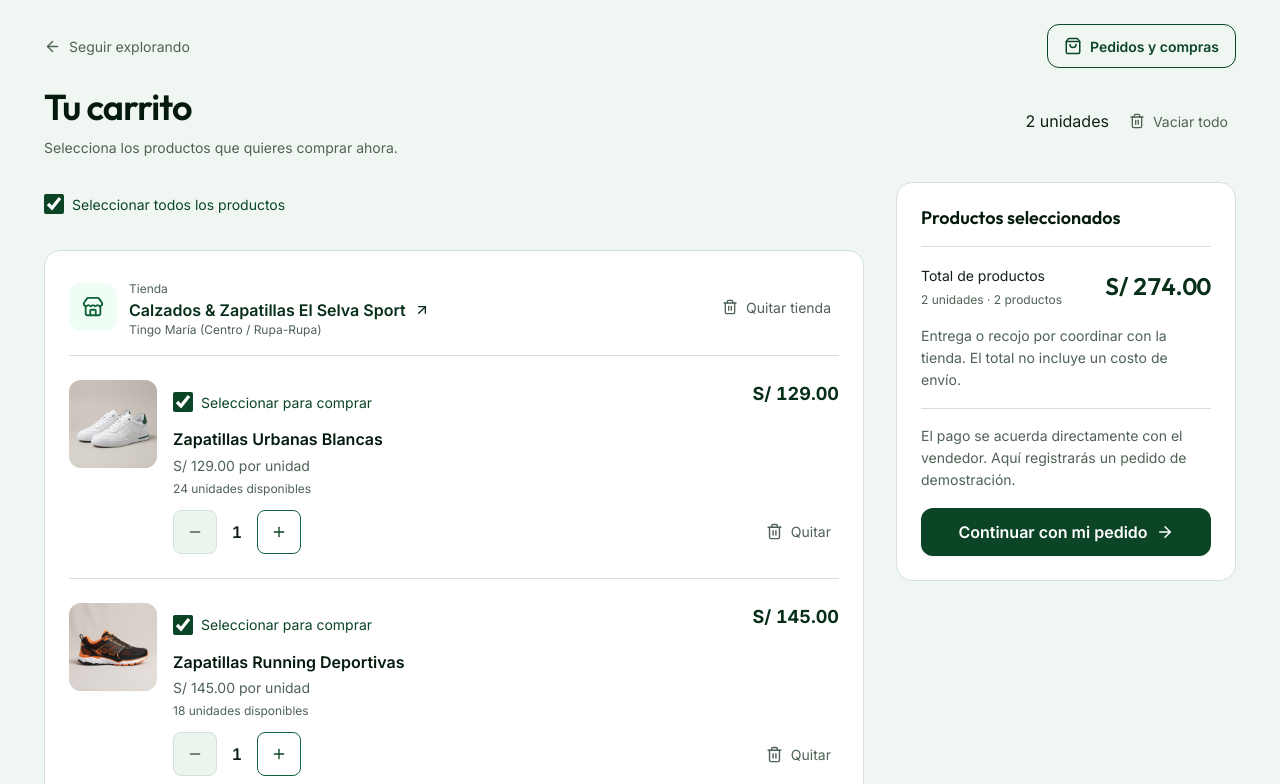
Test: Compra de productos seleccionados › compra un producto y conserva otro de la misma tienda con su stock intacto
The width and height of the screenshot is (1280, 784).
Step 1. Click the 2nd checkbox labelled "Seleccionar para comprar" → coordinates (183, 625), box x1=173 y1=615 x2=193 y2=635
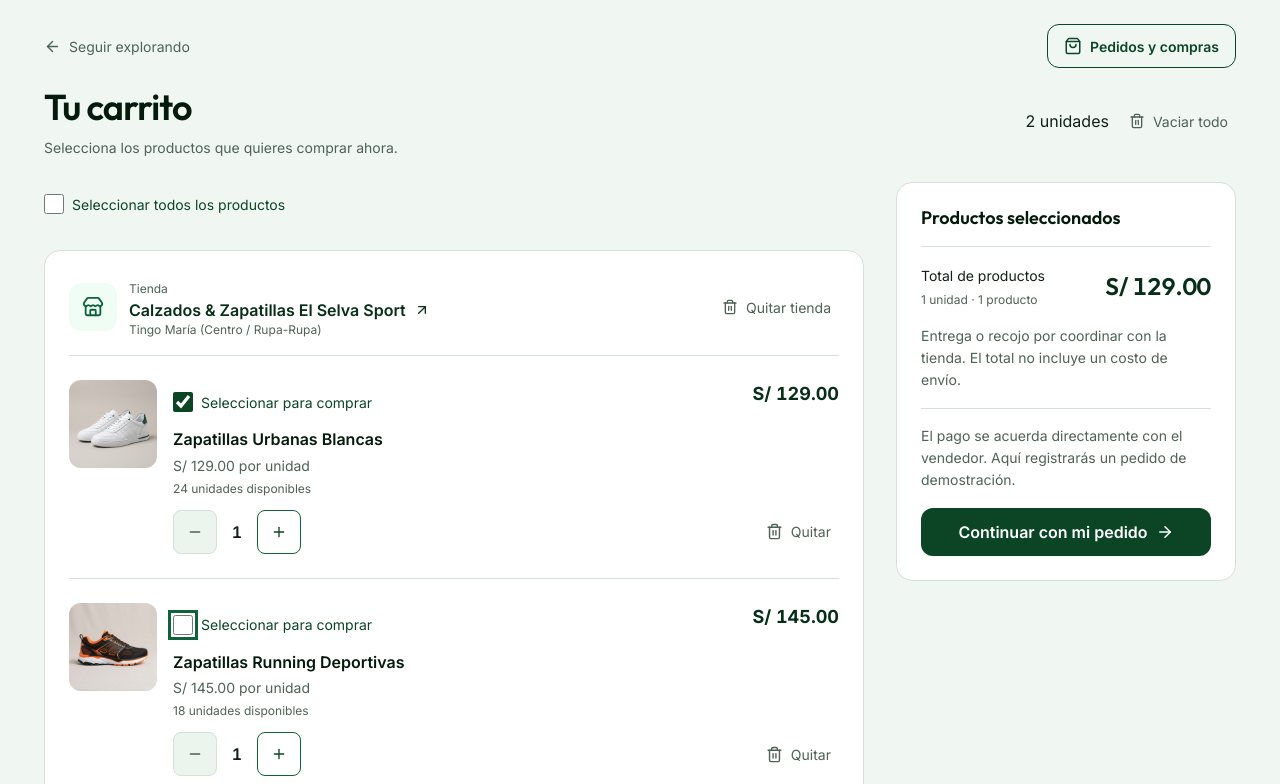
Step 2. Click the button "Continuar con mi pedido" → coordinates (1066, 532), box x1=921 y1=508 x2=1211 y2=556
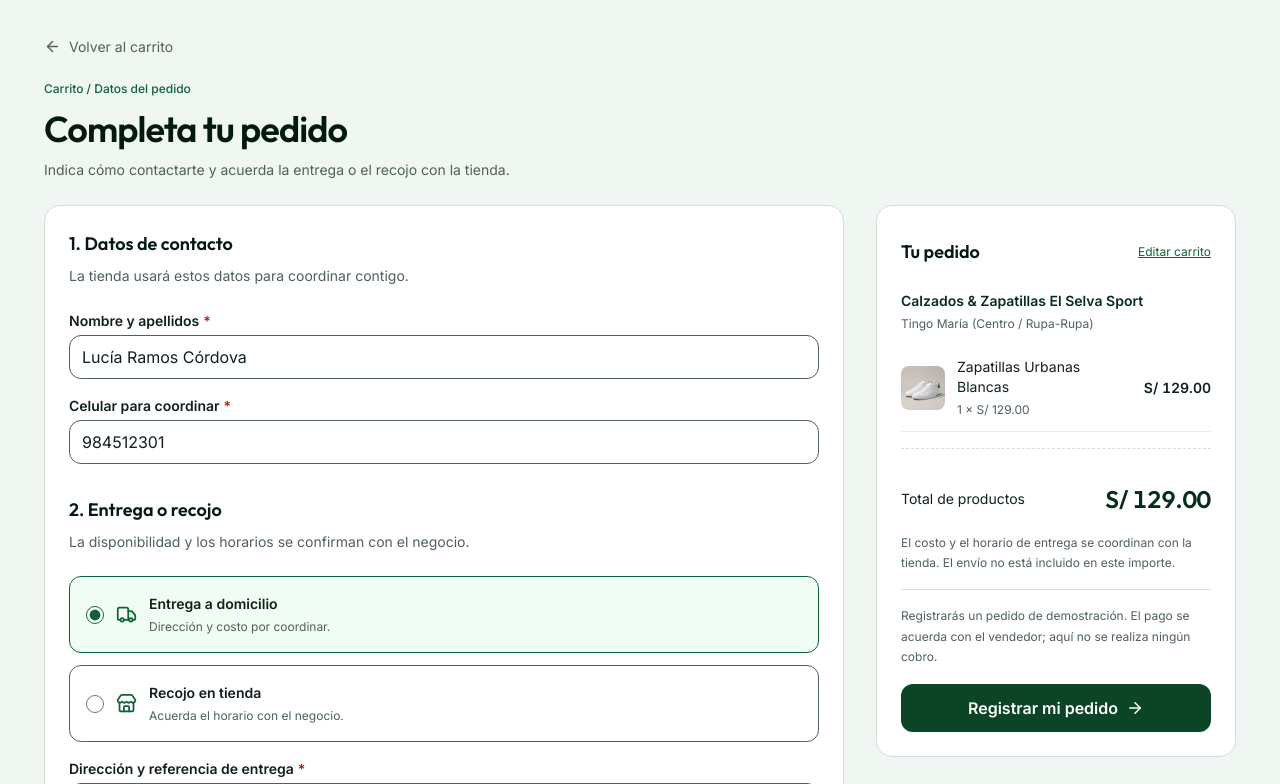
Expected: the text "Zapatillas Urbanas Blancas" is shown, x1=957 y1=358 x2=1080 y2=395
Expected: the link "Zapatillas Running Deportivas" is gone
Step 3. Click the radio button labelled "Recojo en tienda Acuerda el horario con el negocio." → coordinates (95, 704), box x1=86 y1=695 x2=104 y2=713
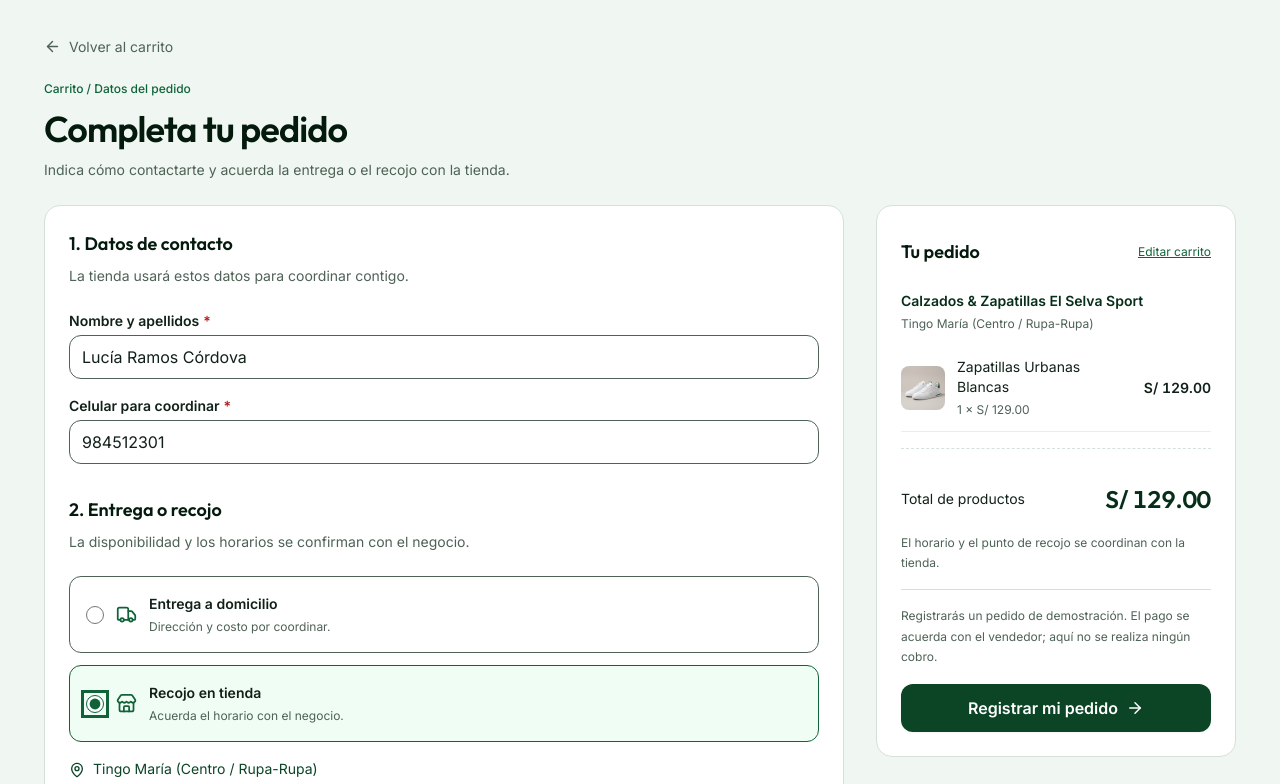
Step 4. Click the button "Registrar mi pedido" → coordinates (1056, 708), box x1=901 y1=684 x2=1211 y2=732
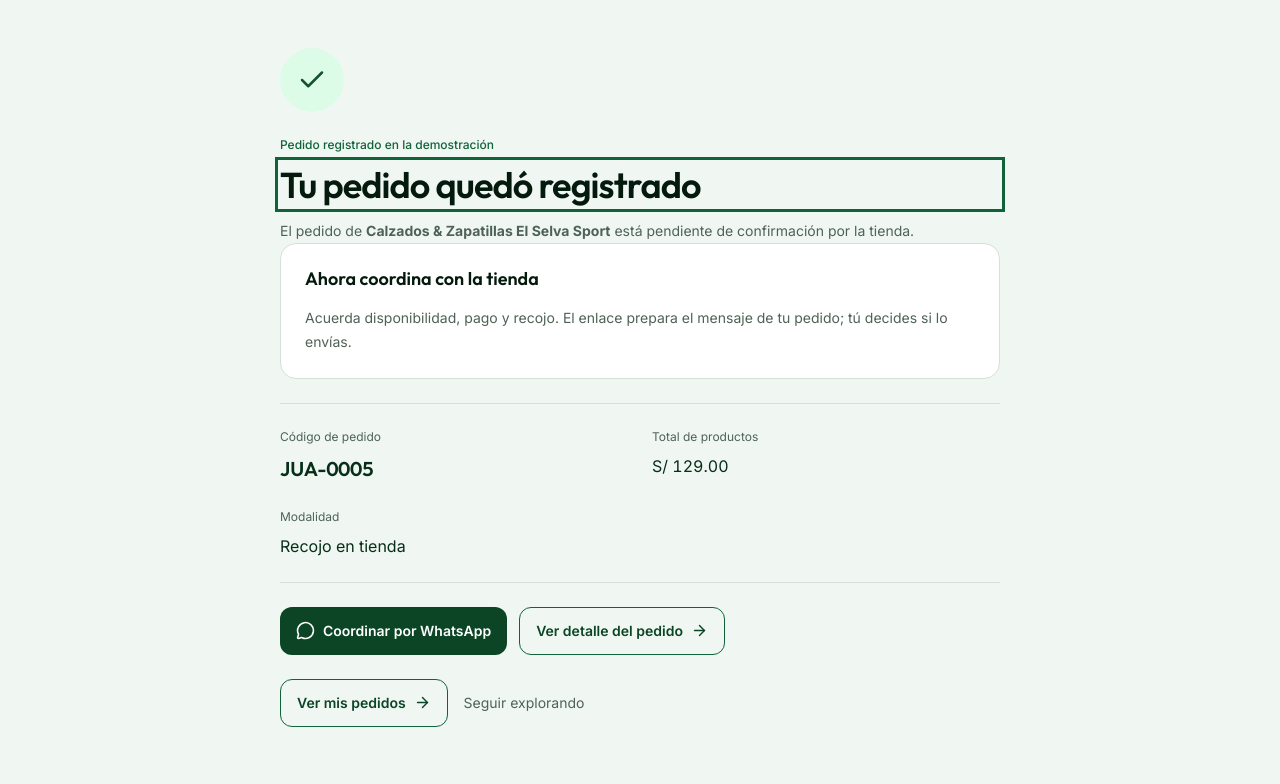
Expected: the heading "Tu pedido quedó registrado" is shown, x1=280 y1=162 x2=700 y2=207
